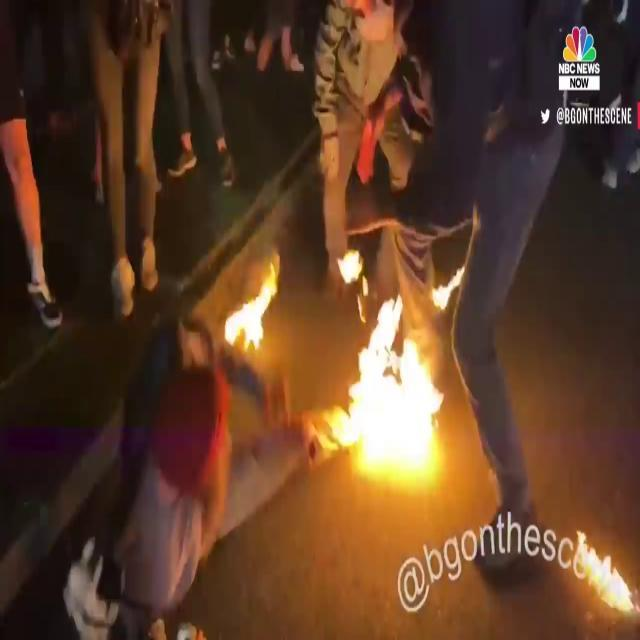Fire: (325, 256, 453, 491), (561, 519, 640, 628), (221, 255, 281, 363)
